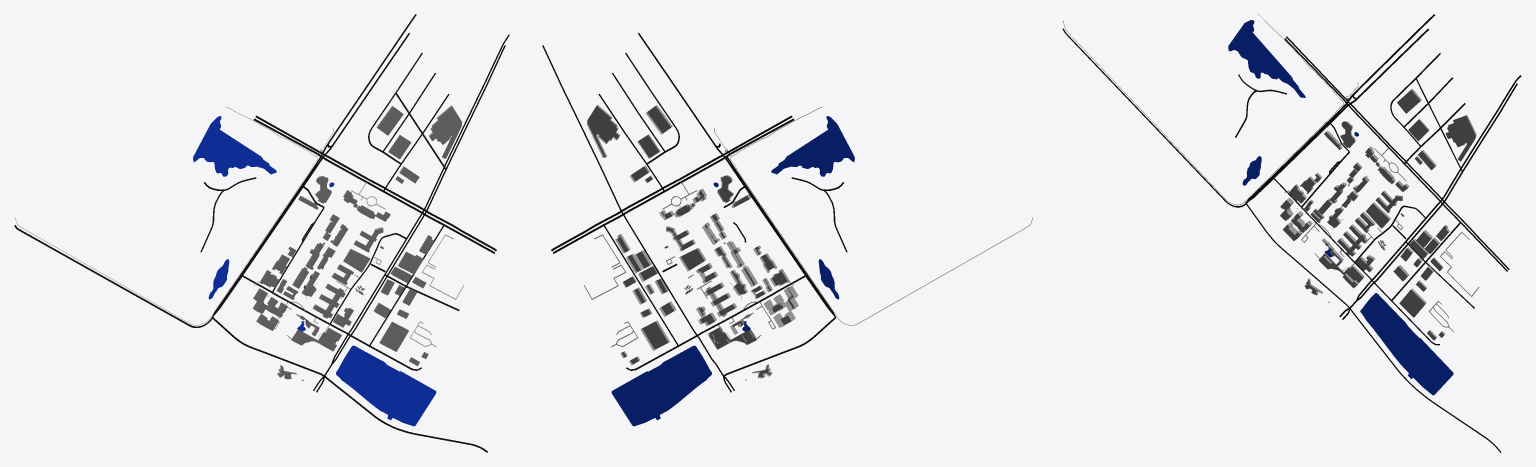
File: inu.obj
3 views of the same model, side by side, from view 1: azimuth 30°, elevation 25°; view 2: azimuth 150°, elevation 25°; view 3: azimuth 330°, elevation 25° (orthographic). The views are drawn at different scales.
Parts seen in each view (by area): view 1: inu.osm_buildings, inu.osm_water, inu.osm_roads_secondary, inu.osm_roads_tertiary, inu.osm_roads_residential, inu.osm_roads_service, inu.osm_paths_cycleway; view 2: inu.osm_buildings, inu.osm_water, inu.osm_roads_secondary, inu.osm_roads_residential, inu.osm_roads_tertiary, inu.osm_roads_service, inu.osm_paths_cycleway; view 3: inu.osm_buildings, inu.osm_water, inu.osm_roads_tertiary, inu.osm_roads_secondary, inu.osm_roads_residential, inu.osm_roads_service, inu.osm_paths_cycleway.
Part boxes in pixels (<box>): inu.osm_buildings: <box>253,105,461,380</box>; inu.osm_water: <box>193,116,436,426</box>; inu.osm_roads_secondary: <box>211,14,496,317</box>; inu.osm_roads_tertiary: <box>14,34,509,452</box>; inu.osm_roads_residential: <box>200,53,459,370</box>; inu.osm_roads_service: <box>254,182,464,347</box>; inu.osm_paths_cycleway: <box>15,107,333,325</box>; inu.osm_buildings: <box>587,105,798,380</box>; inu.osm_water: <box>611,116,854,426</box>; inu.osm_roads_secondary: <box>551,33,836,317</box>; inu.osm_roads_residential: <box>598,53,847,370</box>; inu.osm_roads_tertiary: <box>542,45,835,392</box>; inu.osm_roads_service: <box>583,183,793,347</box>; inu.osm_paths_cycleway: <box>714,107,1032,325</box>; inu.osm_buildings: <box>1280,88,1476,340</box>; inu.osm_water: <box>1228,20,1453,395</box>; inu.osm_roads_tertiary: <box>1062,28,1521,452</box>; inu.osm_roads_secondary: <box>1245,14,1509,271</box>; inu.osm_roads_residential: <box>1235,53,1474,345</box>; inu.osm_roads_service: <box>1284,147,1479,332</box>; inu.osm_paths_cycleway: <box>1063,14,1358,205</box>.
Bounding box in the file's own units: 2319 × 2040 × 35.13.
